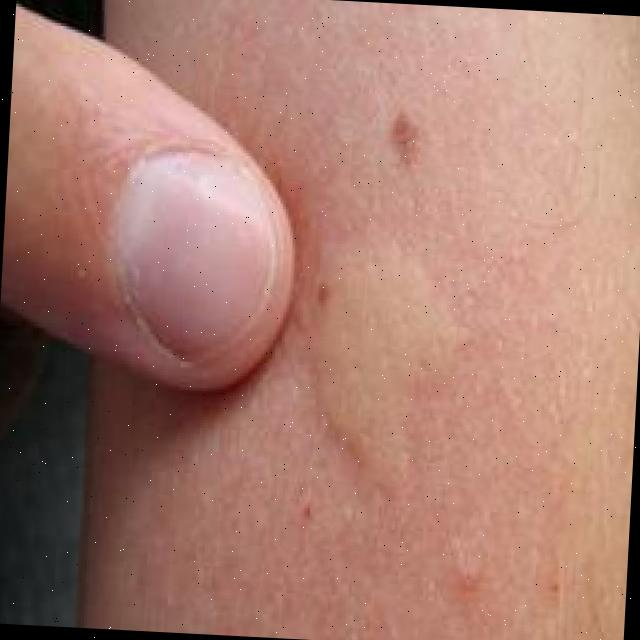sinek: (302, 233, 499, 487)
